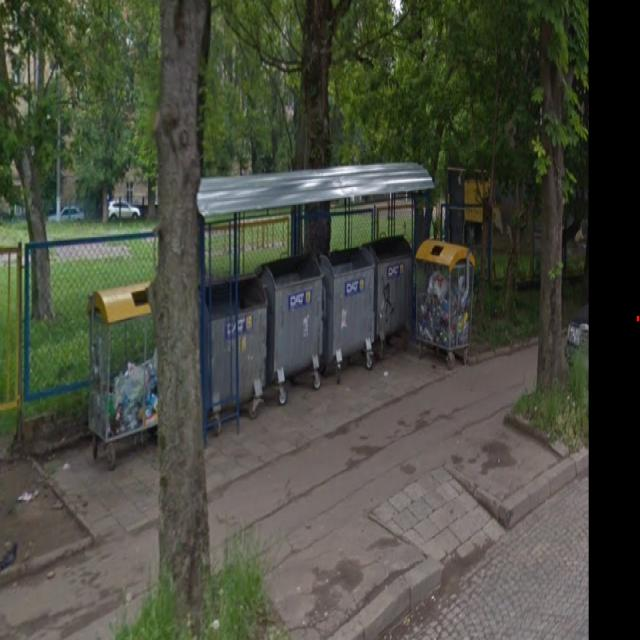general wastetrash bin: (200, 262, 267, 432), (274, 247, 323, 401), (328, 230, 374, 387), (377, 224, 413, 365)
plastic trash bin: (88, 272, 160, 480), (414, 232, 478, 398)
